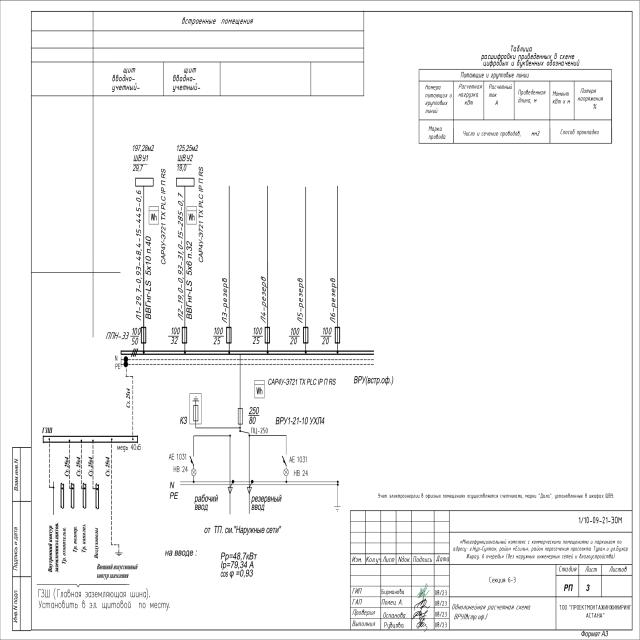-: (268, 376, 338, 388), (160, 165, 168, 266), (275, 413, 326, 428), (105, 326, 142, 346), (198, 165, 205, 264), (249, 326, 264, 347), (287, 326, 302, 346), (167, 325, 181, 346), (211, 326, 225, 346), (319, 326, 333, 346), (248, 405, 260, 425), (288, 454, 308, 466), (168, 452, 188, 462), (293, 468, 309, 479), (172, 464, 188, 474), (250, 426, 269, 434)
FU: (181, 326, 188, 344), (225, 326, 232, 344), (302, 327, 309, 344), (140, 326, 147, 343), (264, 326, 270, 344), (334, 326, 340, 344), (237, 408, 243, 425)
HL: (283, 468, 289, 477), (191, 468, 196, 476)
K: (176, 175, 196, 188), (135, 176, 155, 188)
QF: (281, 452, 288, 466), (189, 453, 195, 467)
WH: (253, 379, 266, 400), (148, 205, 160, 225), (186, 205, 197, 226)
switch: (229, 430, 251, 438)
